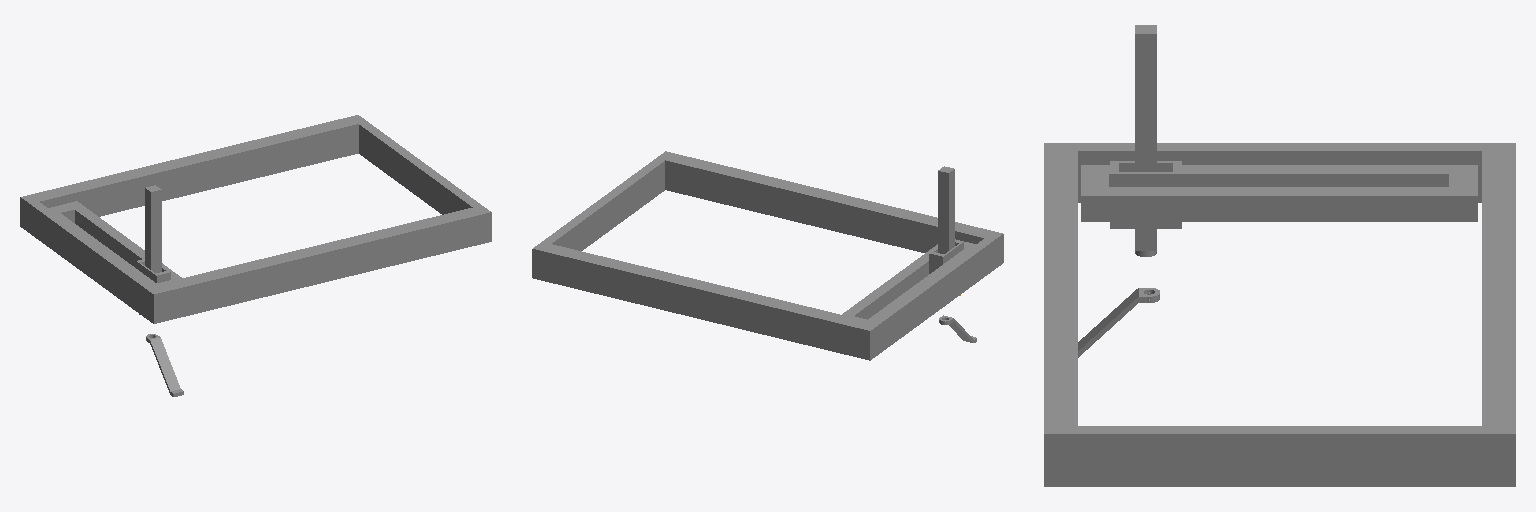
The robot description file, URDF, robot "cartesian_positioner":
<?xml version="1.0" ?>
<!-- =================================================================================== -->
<!-- |    This document was autogenerated by xacro from [local-path]/ros2_ws/install/cartesian_positioner_description/share/cartesian_positioner_description/urdf/cartesian_positioner.urdf.xacro | -->
<!-- |    EDITING THIS FILE BY HAND IS NOT RECOMMENDED                                 | -->
<!-- =================================================================================== -->
<!-- This URDF was automatically created by SolidWorks to URDF Exporter! Originally created by [author] ([email redacted]) 
     Commit Version: 1.6.0-4-g7f85cfe  Build Version: 1.6.7995.38578
     For more information, please see http://wiki.ros.org/sw_urdf_exporter -->
<robot name="cartesian_positioner">
  <link name="root_link"/>
  <link name="base_link">
    <inertial>
      <origin rpy="0 0 0" xyz="0.545 0.21 0.015"/>
      <mass value="2.61"/>
      <inertia ixx="0.08194635" ixy="5.20738915312999E-17" ixz="2.57356843807431E-19" iyy="0.3765219" iyz="-1.969633946682E-18" izz="0.45807675"/>
    </inertial>
    <visual>
      <origin rpy="0 0 0" xyz="0 0 0"/>
      <geometry>
        <mesh filename="package://cartesian_positioner_description/meshes/base_link.STL" scale="0.874 1.549 2.666"/>
      </geometry>
      <material name="">
        <color rgba="0.627450980392157 0.627450980392157 0.627450980392157 1"/>
      </material>
    </visual>
    <collision>
      <origin rpy="0 0 0" xyz="0 0 0"/>
      <geometry>
        <mesh filename="package://cartesian_positioner_description/meshes/base_link.STL" scale="0.874 1.549 2.666"/>
      </geometry>
    </collision>
  </link>
  <joint name="root_joint" type="fixed">
    <origin rpy="0 0 0" xyz="0 0 0.25"/>
    <parent link="root_link"/>
    <child link="base_link"/>
  </joint>
  <link name="x_stage">
    <inertial>
      <origin rpy="0 0 0" xyz="0.0500000000000001 0.21 -0.015"/>
      <mass value="0.828000000000002"/>
      <inertia ixx="0.0139185" ixy="7.55023665839396E-19" ixz="5.64688631502863E-21" iyy="0.0010545" iyz="-1.159596928051E-19" izz="0.0148488"/>
    </inertial>
    <visual>
      <origin rpy="0 0 0" xyz="0 0 0"/>
      <geometry>
        <mesh filename="package://cartesian_positioner_description/meshes/x_stage.STL" scale="1 1.306 1.333"/>
      </geometry>
      <material name="">
        <color rgba="0.627450980392157 0.627450980392157 0.627450980392157 1"/>
      </material>
    </visual>
    <collision>
      <origin rpy="0 0 0" xyz="0 0 0"/>
      <geometry>
        <mesh filename="package://cartesian_positioner_description/meshes/x_stage.STL" scale="1 1.306 1.333"/>
      </geometry>
    </collision>
  </link>
  <joint name="x_joint_plan" type="prismatic">
    <origin rpy="0 0 0" xyz="0.03 0.05 0.06"/>
    <parent link="base_link"/>
    <child link="x_stage"/>
    <axis xyz="1 0 0"/>
    <limit effort="100" lower="0" upper="0.750" velocity="1"/>
  </joint>
  <joint name="x_joint_comp" type="prismatic">
    <origin rpy="0 0 0" xyz="0.03 0.05 0.06"/>
    <parent link="base_link"/>
    <child link="virtual_link_comp"/>
    <axis xyz="1 0 0"/>
    <limit effort="100" lower="-10" upper="10" velocity="1"/>
  </joint>
  <link name="virtual_link_comp"/>
  <link name="y_stage">
    <inertial>
      <origin rpy="0 0 0" xyz="0.02 0.02 -0.015"/>
      <mass value="0.021"/>
      <inertia ixx="5.95000000000001E-06" ixy="-6.66644293297972E-22" ixz="-2.48154183766091E-24" iyy="5.95000000000001E-06" iyz="-7.76446868316441E-22" izz="8.75000000000002E-06"/>
    </inertial>
    <visual>
      <origin rpy="0 0 0" xyz="0 0 0"/>
      <geometry>
        <mesh filename="package://cartesian_positioner_description/meshes/y_stage.STL" scale="1 2.5 2.833"/>
      </geometry>
      <material name="">
        <color rgba="0.627450980392157 0.627450980392157 0.627450980392157 1"/>
      </material>
    </visual>
    <collision>
      <origin rpy="0 0 0" xyz="0 0 0"/>
      <geometry>
        <mesh filename="package://cartesian_positioner_description/meshes/y_stage.STL" scale="1 2.5 2.833"/>
      </geometry>
    </collision>
  </link>
  <joint name="y_joint" type="prismatic">
    <origin rpy="0 0 0" xyz="0.03 0.04 0.02"/>
    <parent link="x_stage"/>
    <child link="y_stage"/>
    <axis xyz="0 1 0"/>
    <limit effort="100" lower="0" upper="0.36" velocity="1"/>
  </joint>
  <link name="z_stage">
    <inertial>
      <origin rpy="0 0 0" xyz="0.015 0.015 0.165"/>
      <mass value="0.297"/>
      <inertia ixx="0.00271755" ixy="2.53323837601238E-22" ixz="-8.81620763116716E-36" iyy="0.00271755" iyz="1.35525271560688E-20" izz="4.45500000000001E-05"/>
    </inertial>
    <visual>
      <origin rpy="0 0 0" xyz="0 0 0"/>
      <geometry>
        <mesh filename="package://cartesian_positioner_description/meshes/z_stage.STL"/>
      </geometry>
      <material name="">
        <color rgba="0.627450980392157 0.627450980392157 0.627450980392157 1"/>
      </material>
    </visual>
    <collision>
      <origin rpy="0 0 0" xyz="0 0 0"/>
      <geometry>
        <mesh filename="package://cartesian_positioner_description/meshes/z_stage.STL"/>
      </geometry>
    </collision>
  </link>
  <joint name="z_joint" type="prismatic">
    <origin rpy="0 0 0" xyz="0.005 0.035 -0.12"/>
    <parent link="y_stage"/>
    <child link="z_stage"/>
    <axis xyz="0 0 -1"/>
    <limit effort="100" lower="0" upper="0.20" velocity="1"/>
  </joint>
  <link name="laser">
    <visual>
      <origin rpy="0 0 0" xyz="0 0 0.02"/>
      <geometry>
        <cylinder length="0.04" radius="0.005"/>
      </geometry>
      <material name="gold">
        <color rgba="0.86 0.67 0.20 1.0"/>
      </material>
    </visual>
    <collision>
      <origin rpy="0 0 0" xyz="0 0 0.02"/>
      <geometry>
        <cylinder length="0.04" radius="0.005"/>
      </geometry>
    </collision>
  </link>
  <joint name="laser_joint" type="fixed">
    <origin rpy="0 0 0" xyz="-0.020 0.015 0.0"/>
    <parent link="z_stage"/>
    <child link="laser"/>
  </joint>
  <link name="a_stage">
    <inertial>
      <origin rpy="0 0 0" xyz="5.55111512312578E-17 -1.38777878078145E-17 0.005"/>
      <mass value="0.00706858347057704"/>
      <inertia ixx="4.56512682474767E-07" ixy="-8.7672286998829E-38" ixz="7.62082778666612E-39" iyy="4.56512682474767E-07" iyz="1.26517267465749E-24" izz="7.95215640439917E-07"/>
    </inertial>
    <visual>
      <origin rpy="0 0 0" xyz="0 0 0"/>
      <geometry>
        <mesh filename="package://cartesian_positioner_description/meshes/a_stage.STL"/>
      </geometry>
      <material name="">
        <color rgba="0.627450980392157 0.627450980392157 0.627450980392157 1"/>
      </material>
    </visual>
    <collision>
      <origin rpy="0 0 0" xyz="0 0 0"/>
      <geometry>
        <mesh filename="package://cartesian_positioner_description/meshes/a_stage.STL"/>
      </geometry>
    </collision>
  </link>
  <joint name="a_joint" type="revolute">
    <origin rpy="0 0 0" xyz="0.0149999999999996 0.015 -0.0100000000000001"/>
    <parent link="z_stage"/>
    <child link="a_stage"/>
    <axis xyz="0 0 -1"/>
    <limit effort="100" lower="-4.7124" upper="4.7124" velocity="10"/>
  </joint>
  <link name="tool">
    <inertial>
      <origin rpy="0 0 0" xyz="-1.52193926405975E-07 0.0530606506441713 0.0623032894021041"/>
      <mass value="0.147757758583212"/>
      <inertia ixx="0.00034328202256601" ixy="-1.09719380453623E-09" ixz="-9.14516377462814E-10" iyy="0.000183483007523239" iyz="-0.000160724714580781" izz="0.000181664808320788"/>
    </inertial>
    <visual>
      <origin rpy="1.57 0 1.57" xyz="-0.015 -0.009 -0.004"/>
      <geometry>
        <mesh filename="package://cartesian_positioner_description/meshes/tool.STL" scale="0.001 0.001 0.001"/>
      </geometry>
      <material name="">
        <color rgba="0.627450980392157 0.627450980392157 0.627450980392157 1"/>
      </material>
    </visual>
    <collision>
      <origin rpy="1.57 0 1.57" xyz="-0.015 -0.009 -0.004"/>
      <geometry>
        <mesh filename="package://cartesian_positioner_description/meshes/tool.STL" scale="0.001 0.001 0.001"/>
      </geometry>
    </collision>
  </link>
  <joint name="tool_joint" type="fixed">
    <origin rpy="0 0 0" xyz="0 -0.115 -0.165"/>
    <parent link="a_stage"/>
    <child link="tool"/>
    <axis xyz="0 0 0"/>
  </joint>
  <ros2_control name="TBot_positioner" type="system">
    <hardware>
      <plugin>odrive_hardware_interface/ODriveHardwareInterface</plugin>
    </hardware>
    <sensor name="odrv0">
      <param name="serial_number">207D37815753</param>
    </sensor>
    <joint name="y_joint">
      <param name="serial_number">207D37815753</param>
      <param name="axis">0</param>
      <param name="enable_watchdog">0</param>
      <param name="watchdog_timeout">0.1</param>
      <command_interface name="position"/>
      <state_interface name="position"/>
      <state_interface name="velocity"/>
      |
    
    </joint>
    <joint name="z_joint">
      <param name="serial_number">207D37815753</param>
      <param name="axis">1</param>
      <param name="enable_watchdog">0</param>
      <param name="watchdog_timeout">0.1</param>
      <command_interface name="position"/>
      <state_interface name="position"/>
      <state_interface name="velocity"/>
      |
    
    </joint>
    <transmission name="transmission1">
      <plugin>TBotTransmission</plugin>
      <actuator name="motor1" role="actuator1"/>
      <joint name="y_joint" role="joint1">
        <offset>0.0</offset>
        <mechanical_reduction>80.0</mechanical_reduction>
      </joint>
      <actuator name="motor2" role="actuator2"/>
      <joint name="z_joint" role="joint2">
        <offset>0.0</offset>
        <mechanical_reduction>80.0</mechanical_reduction>
      </joint>
    </transmission>
  </ros2_control>
  <ros2_control name="xa_positioner" type="system">
    <hardware>
      <plugin>odrive_hardware_interface/ODriveHardwareInterface</plugin>
    </hardware>
    <sensor name="odrv0">
      <param name="serial_number">[number redacted]</param>
    </sensor>
    <joint name="x_joint_plan">
      <param name="serial_number">[number redacted]</param>
      <param name="axis">0</param>
      <param name="enable_watchdog">0</param>
      <param name="watchdog_timeout">0.1</param>
      <command_interface name="position"/>
      <state_interface name="position"/>
      <state_interface name="velocity"/>
    </joint>
    <joint name="x_joint_comp">
      <param name="serial_number">[number redacted]</param>
      <param name="axis">0</param>
      <param name="enable_watchdog">0</param>
      <param name="watchdog_timeout">0.1</param>
      <command_interface name="position"/>
      <state_interface name="position"/>
      <state_interface name="velocity"/>
    </joint>
    <joint name="a_joint">
      <param name="serial_number">[number redacted]</param>
      <param name="axis">1</param>
      <param name="enable_watchdog">0</param>
      <param name="watchdog_timeout">0.1</param>
      <command_interface name="position"/>
      <state_interface name="position"/>
      <state_interface name="velocity"/>
    </joint>
    <transmission name="AddTransmission">
      <plugin>AddTransmission</plugin>
      <actuator name="motor1" role="actuator1"/>
      <joint name="x_joint_plan" role="joint1">
        <mechanical_reduction>-160.0</mechanical_reduction>
      </joint>
      <joint name="x_joint_comp" role="joint2">
        <mechanical_reduction>-160.0</mechanical_reduction>
      </joint>
    </transmission>
  </ros2_control>
</robot>

--- Render facts (derived) ---
3 views of the same robot in one strip: view 1: azimuth 30°, elevation 25°; view 2: azimuth 150°, elevation 25°; view 3: azimuth 270°, elevation 25° (orthographic).
Model cartesian_positioner with 9 links and 8 joints (1 revolute, 4 prismatic, 3 fixed), rooted at root_link, posed every joint at zero.
Visible links, largest first — view 1: base_link, x_stage, z_stage, tool; view 2: base_link, x_stage, z_stage; view 3: base_link, x_stage, z_stage, y_stage, tool.
Boxes of the visible links, bbox=[...] form: base_link: bbox=[20, 115, 491, 323]; x_stage: bbox=[48, 201, 181, 284]; z_stage: bbox=[145, 185, 161, 272]; tool: bbox=[146, 334, 183, 396]; base_link: bbox=[532, 151, 1003, 360]; x_stage: bbox=[842, 239, 975, 321]; z_stage: bbox=[938, 166, 954, 253]; base_link: bbox=[1044, 143, 1515, 486]; x_stage: bbox=[1081, 165, 1477, 221]; z_stage: bbox=[1135, 25, 1156, 250]; y_stage: bbox=[1110, 161, 1181, 228]; tool: bbox=[1078, 288, 1159, 357].
Size in the robot's own frame: 0.9527 by 0.6506 by 0.509 metres.
Meshes: 6 distinct files referenced, 6 mesh visuals loaded (6 binary STL).
